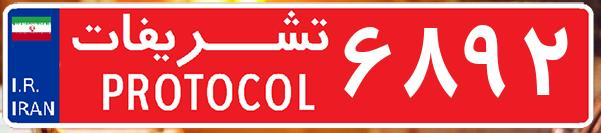2: (520, 20, 580, 115)
6: (340, 20, 400, 115)
8: (400, 20, 460, 115)
9: (460, 20, 520, 115)
تشریفات: (60, 8, 340, 125)
